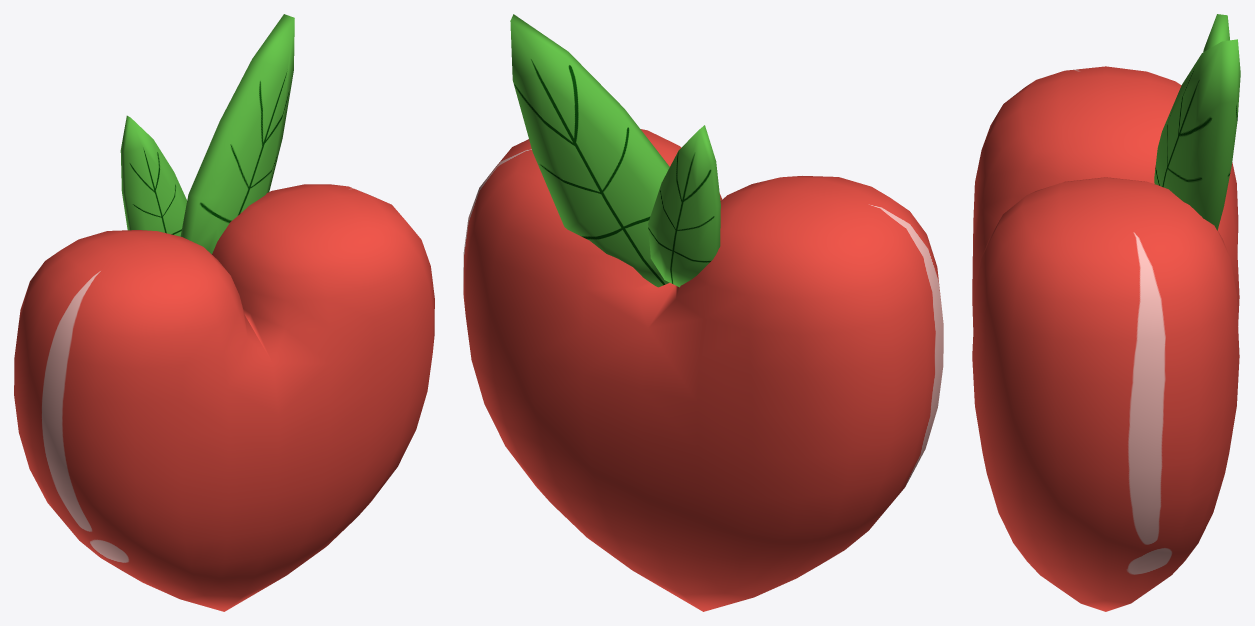
Rendered from vida (3).fbx.
3 renders of one model, left to right at view 1: azimuth 30°, elevation 25°; view 2: azimuth 150°, elevation 25°; view 3: azimuth 270°, elevation 25°, orthographic. The views are drawn at different scales.
Visible parts, largest first — view 1: Sphere; view 2: Sphere; view 3: Sphere.
Boxes of the visible parts, x1,y1,x2,y2 form: Sphere: [14, 14, 434, 611]; Sphere: [463, 14, 943, 611]; Sphere: [972, 14, 1240, 611].
Size of the model in its own units: 1.21 by 1.57 by 0.5953.
